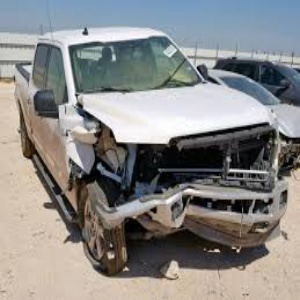bumper: (109, 164, 290, 253)
